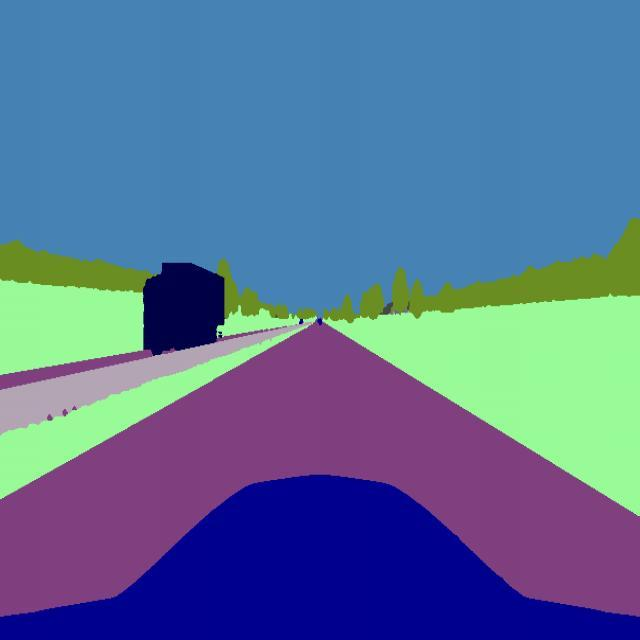safe: (140, 260, 226, 352)
